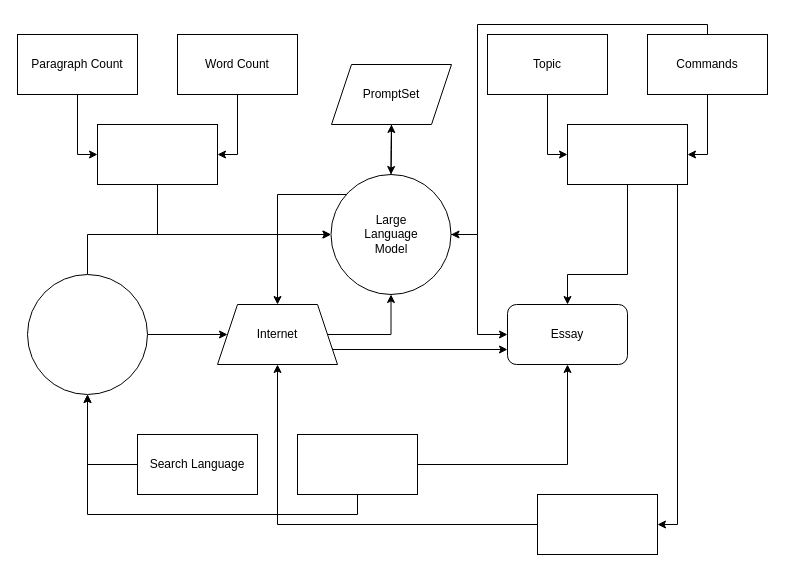
The diagram is 785 pixels wide and 572 high, and some of its shapes have lost their labels. Here are the shapes that lost their labels. From the top down, the box of each, then its label:
(96, 124, 218, 184): Word per Paragraph
(566, 124, 688, 184): List of Ideas
(26, 274, 148, 394): Translator
(296, 434, 418, 494): Essay Language
(536, 494, 658, 554): Pictures
